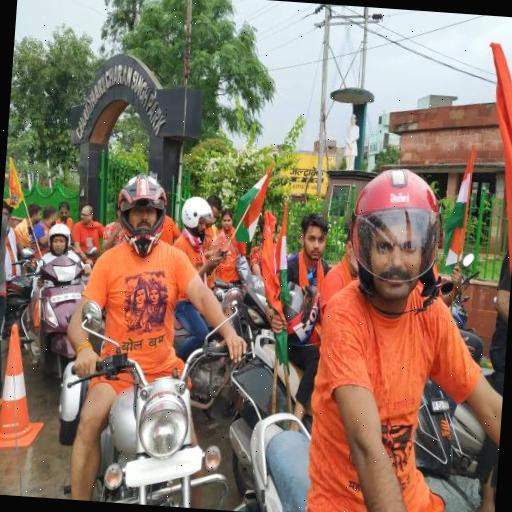helmet: (306, 140, 501, 512), (70, 161, 220, 508), (31, 222, 85, 322), (176, 190, 234, 256)
no helmet: (294, 210, 342, 284)
